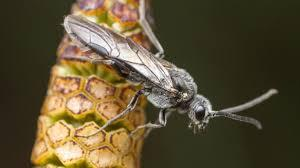insect: (57, 0, 280, 140)
